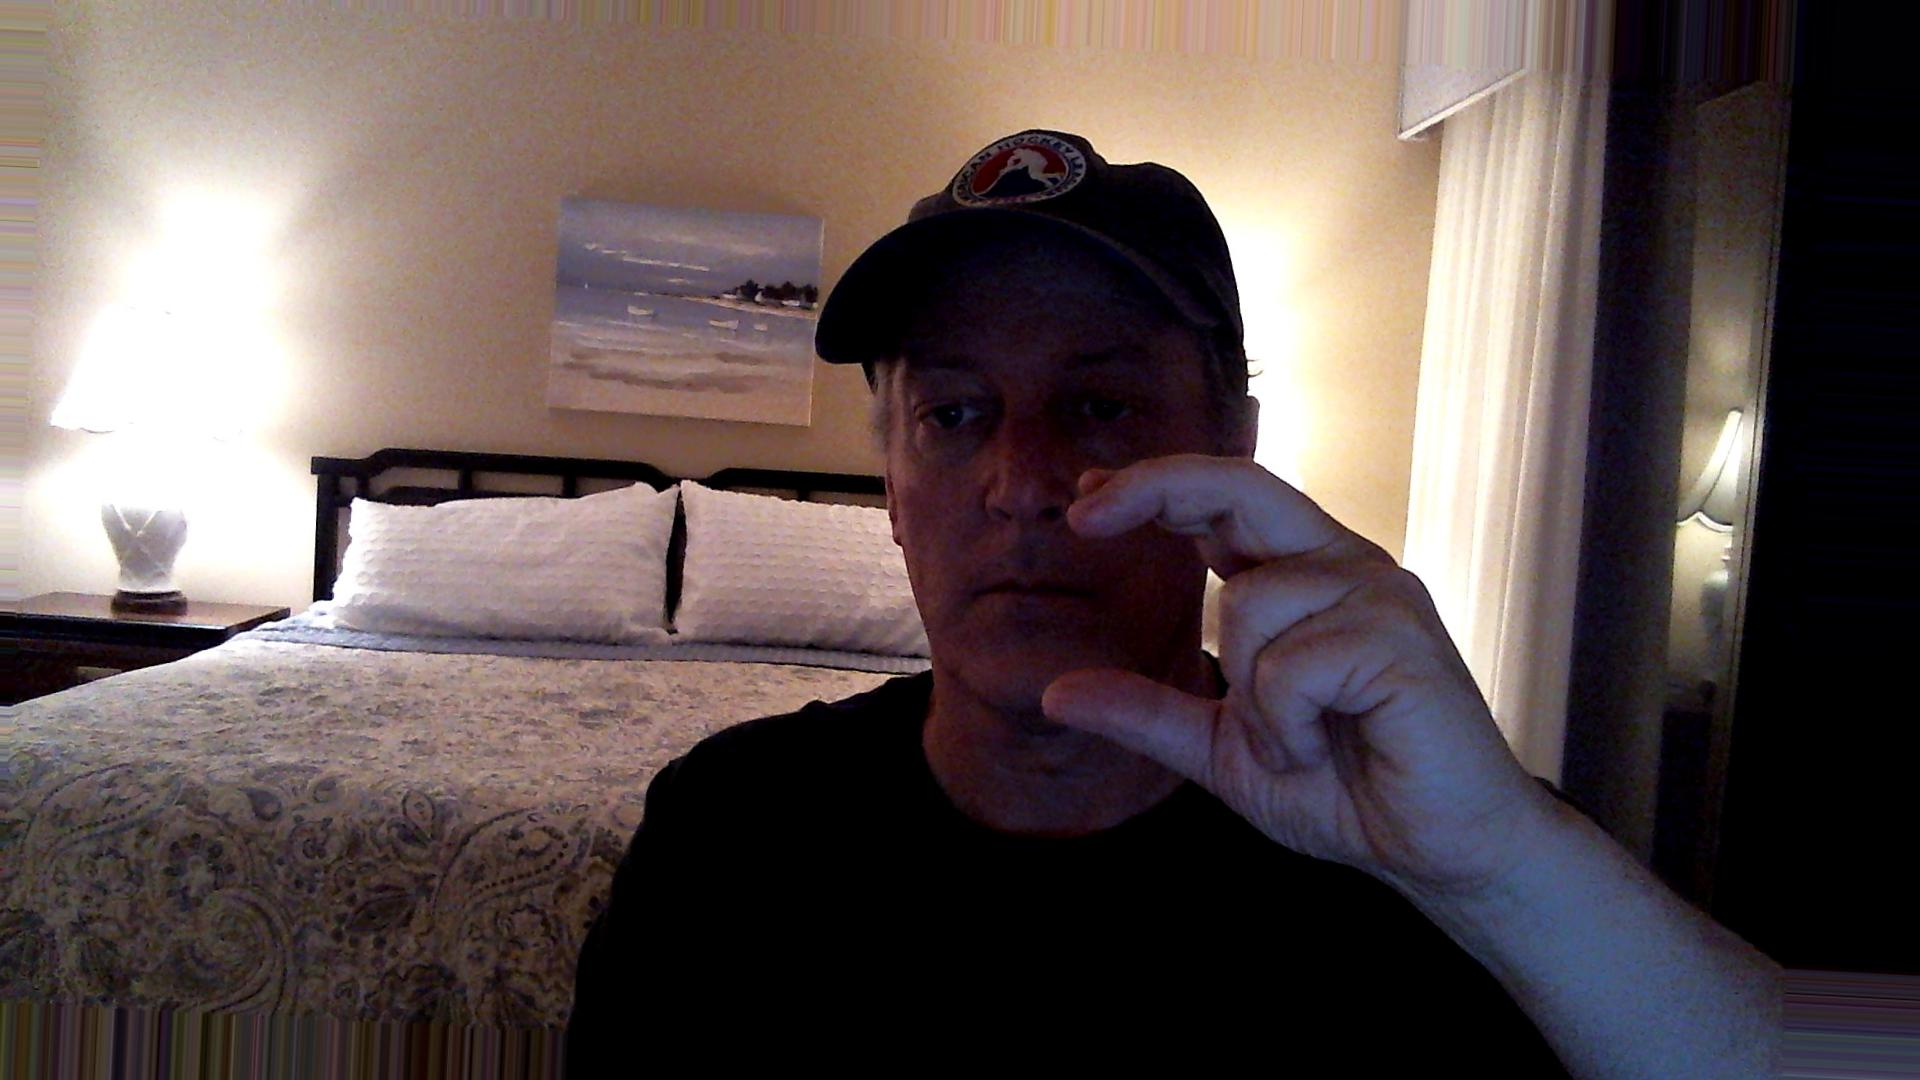No: (1029, 438, 1563, 893)
